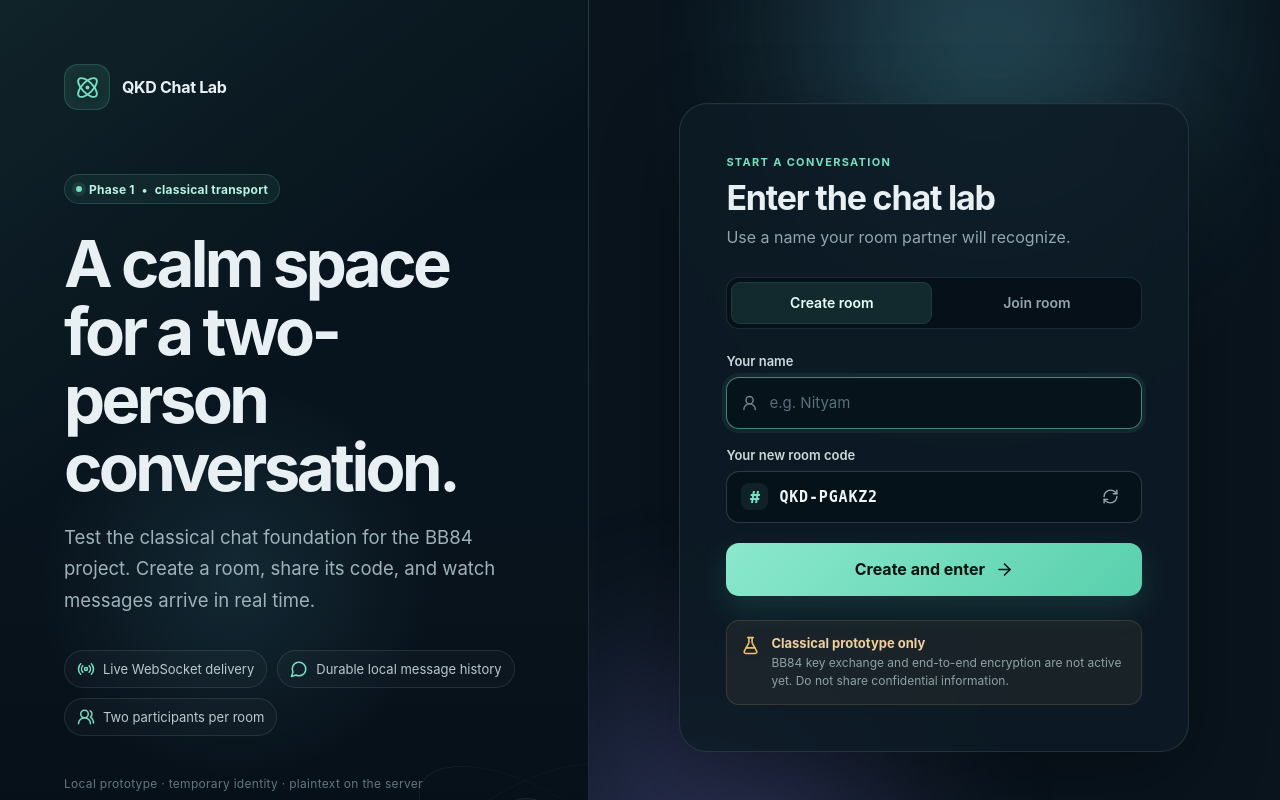
Phase-1 chat experience › copies the room code and keeps the classical phase visible in chat
Click the button "Join room": (1037, 303) 936,282 -> 1137,324
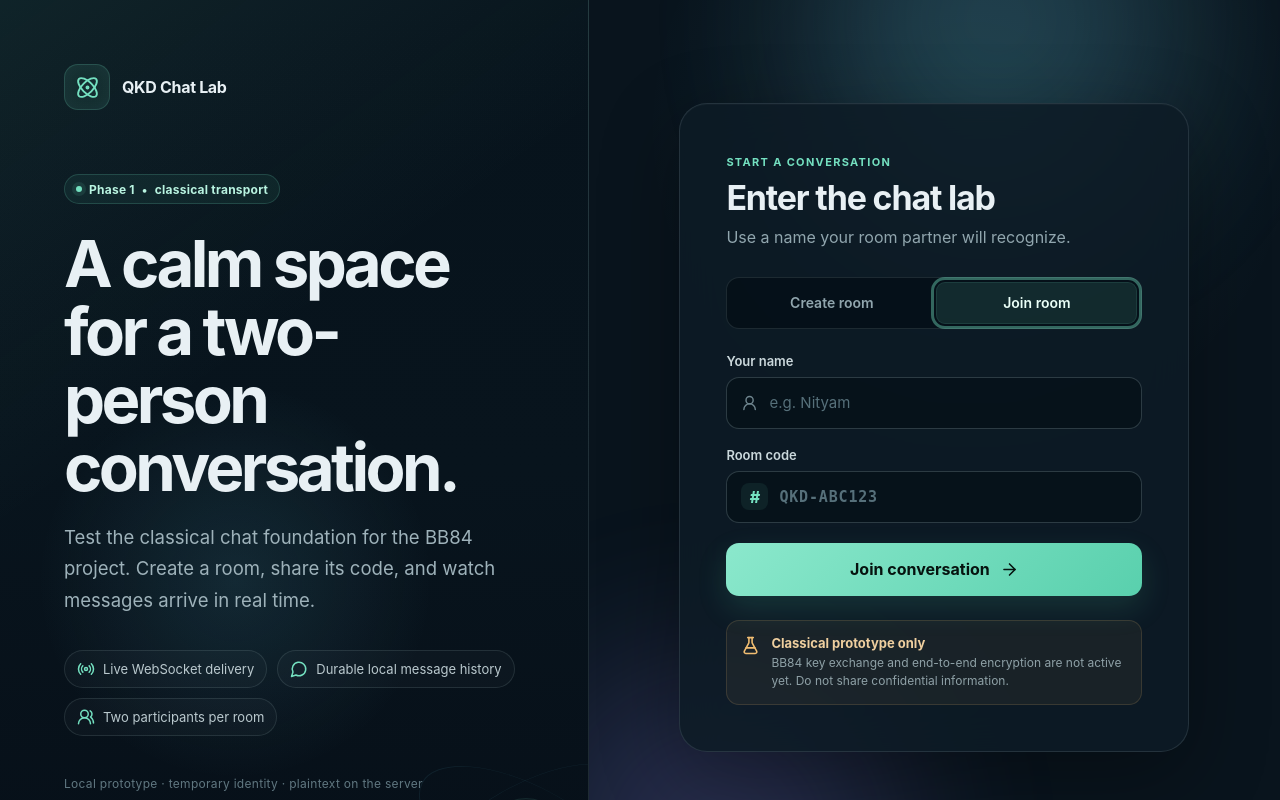
In the field labelled "Your name": (943, 403) 758,378 -> 1127,428, type "Asha"
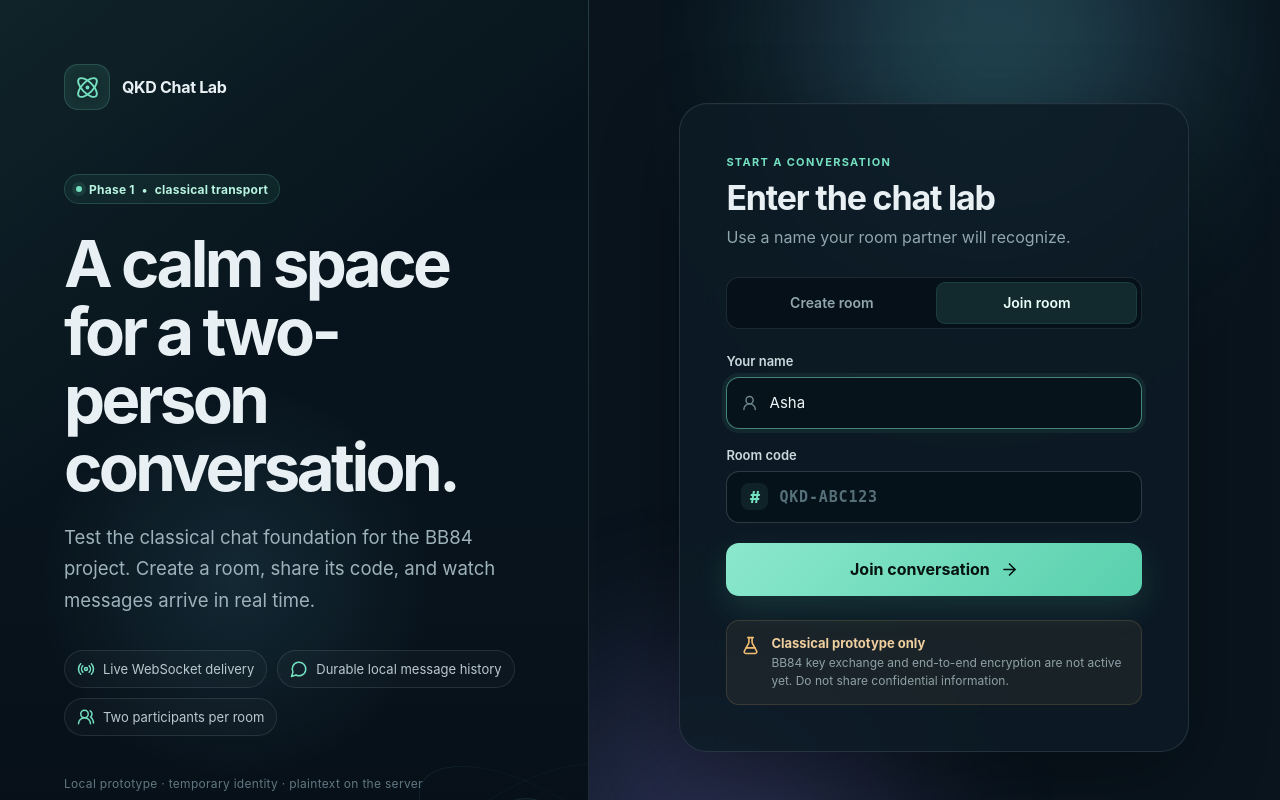
In the field labelled "Room code": (948, 497) 768,472 -> 1127,522, type "room-42"
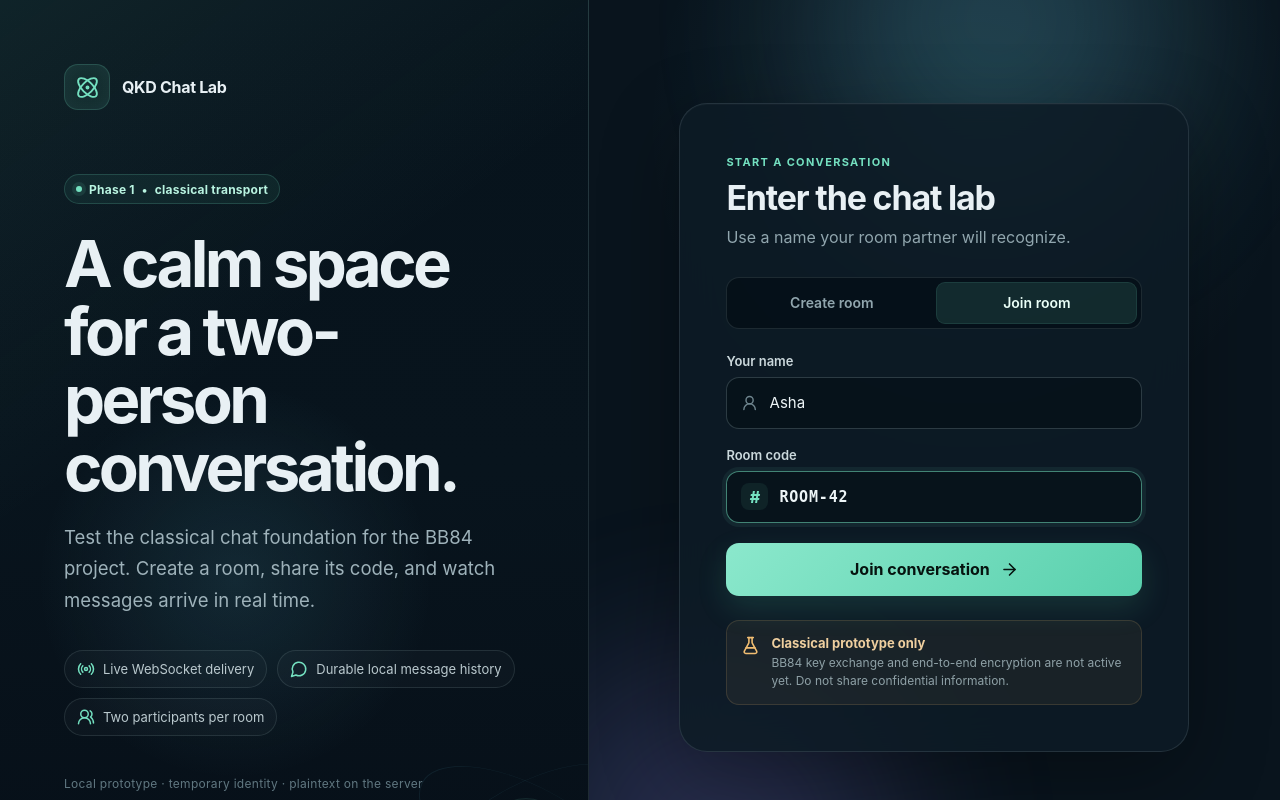
Click the button "Join conversation": (934, 569) 726,543 -> 1142,596
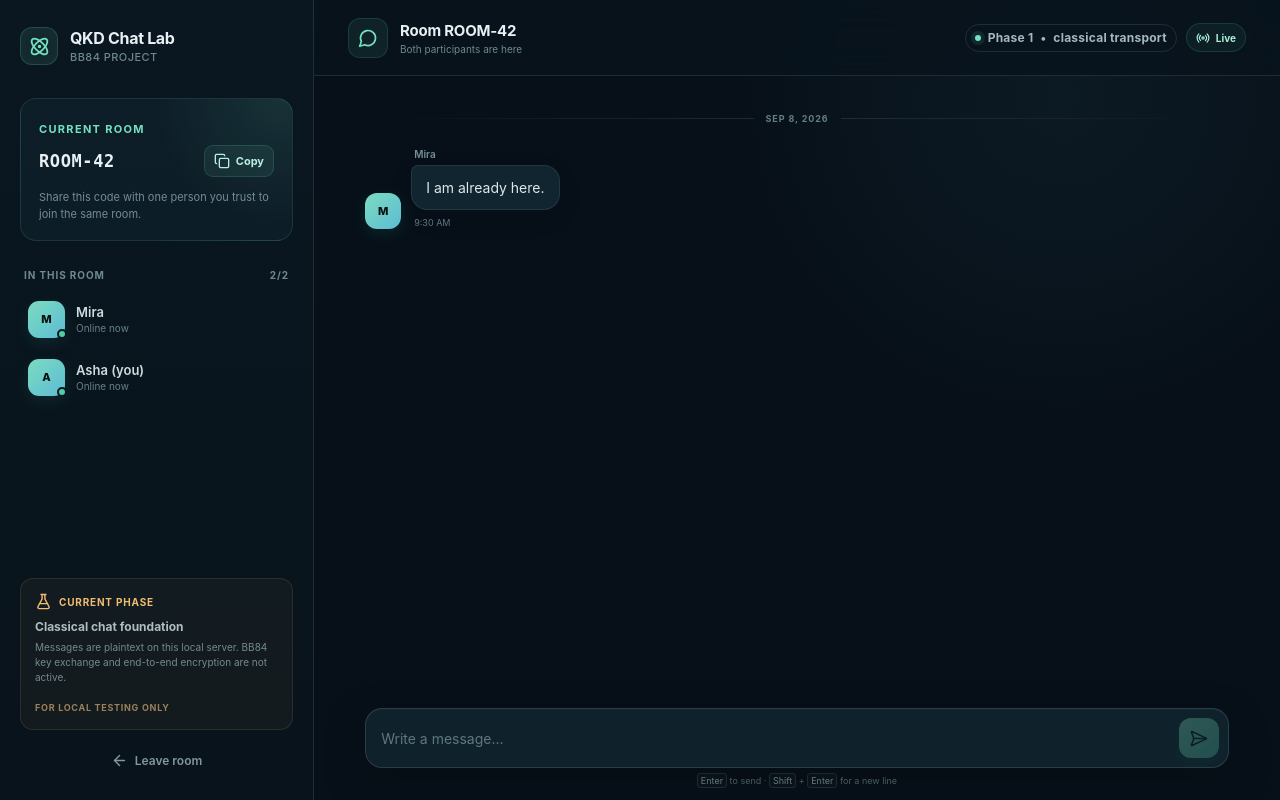
Check: the text "Phase 1 • classical transport" is shown, box 965,24 -> 1177,52
Click the button with aria-label "Copy room code": (239, 161) 204,145 -> 274,177
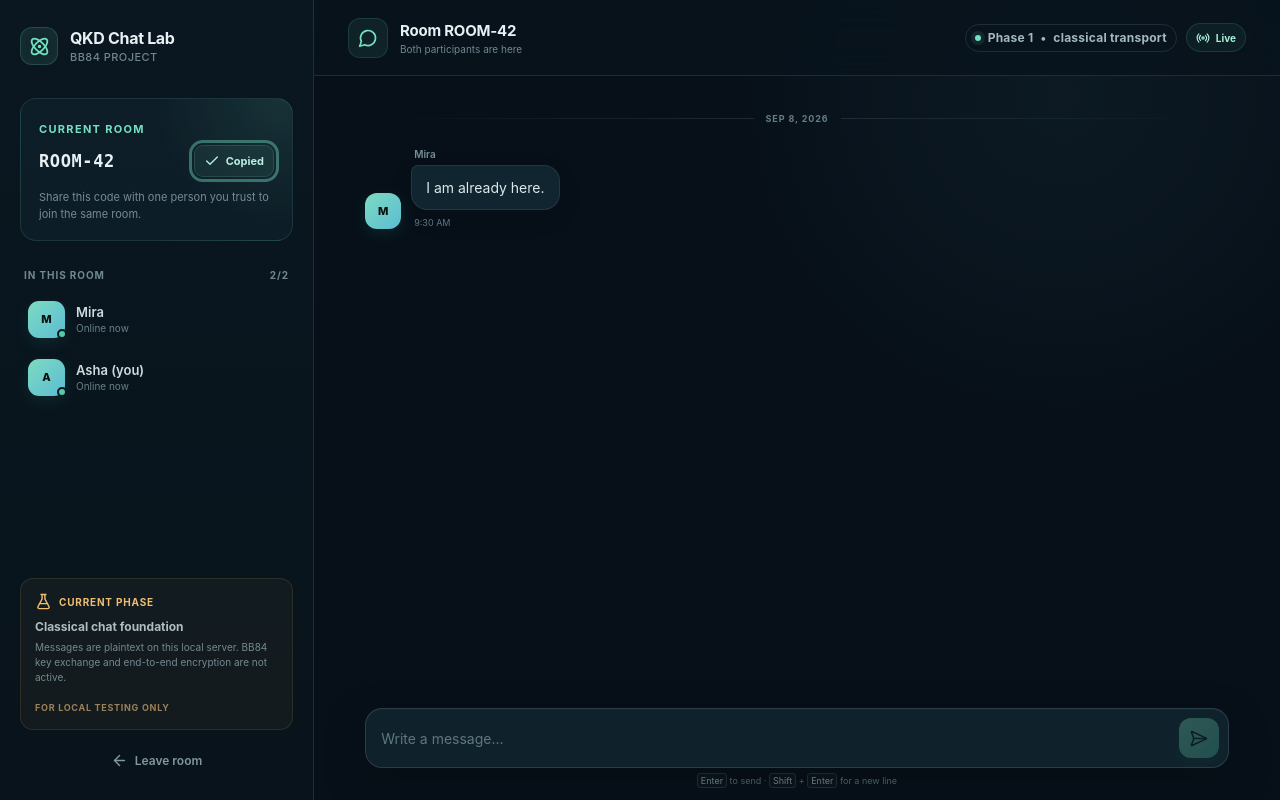
Check: the button "Copied" is shown, box 194,145 -> 274,177
